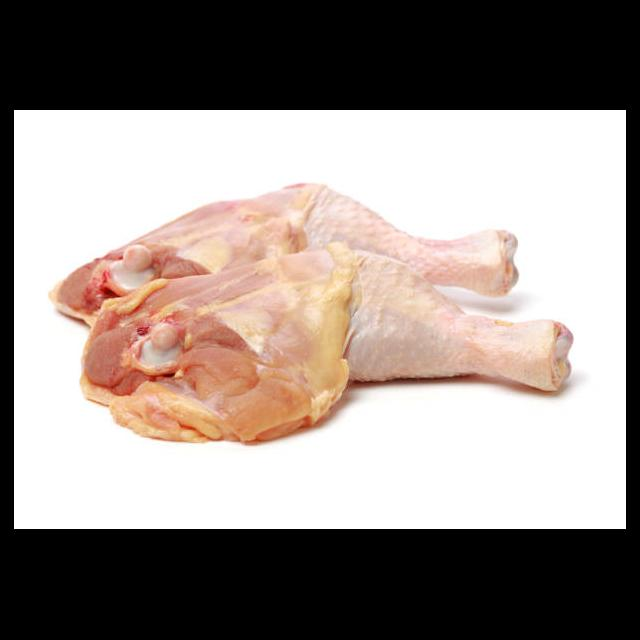chicken: (78, 244, 574, 444), (46, 183, 521, 329)
